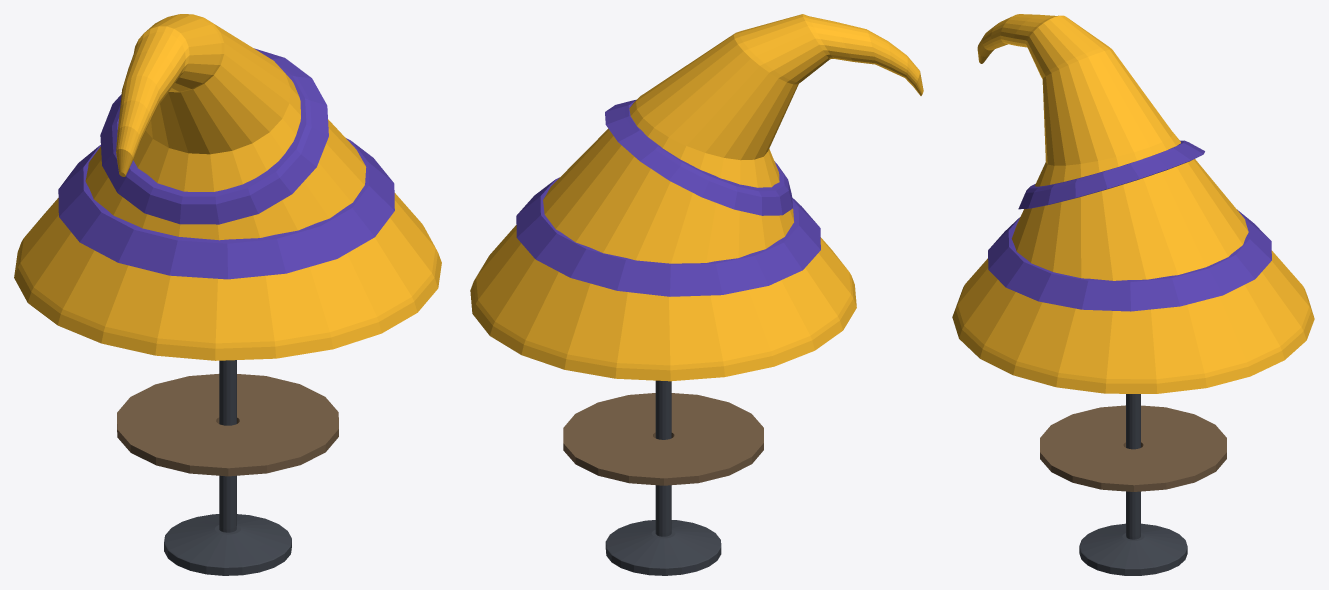
File: WazardTable_Yellow.fbx
3 views of the same model, side by side, from view 1: azimuth 30°, elevation 25°; view 2: azimuth 150°, elevation 25°; view 3: azimuth 270°, elevation 25° (orthographic). The views are drawn at different scales.
Parts seen in each view (by area): view 1: WazardTable_Yellow; view 2: WazardTable_Yellow; view 3: WazardTable_Yellow.
Boxes of the visible parts, box(x1,y1,x2,y2) form: WazardTable_Yellow: box(14, 14, 441, 575); WazardTable_Yellow: box(470, 14, 923, 575); WazardTable_Yellow: box(952, 14, 1314, 575).
Bounding box in the file's own units: 520 × 758 × 506.
